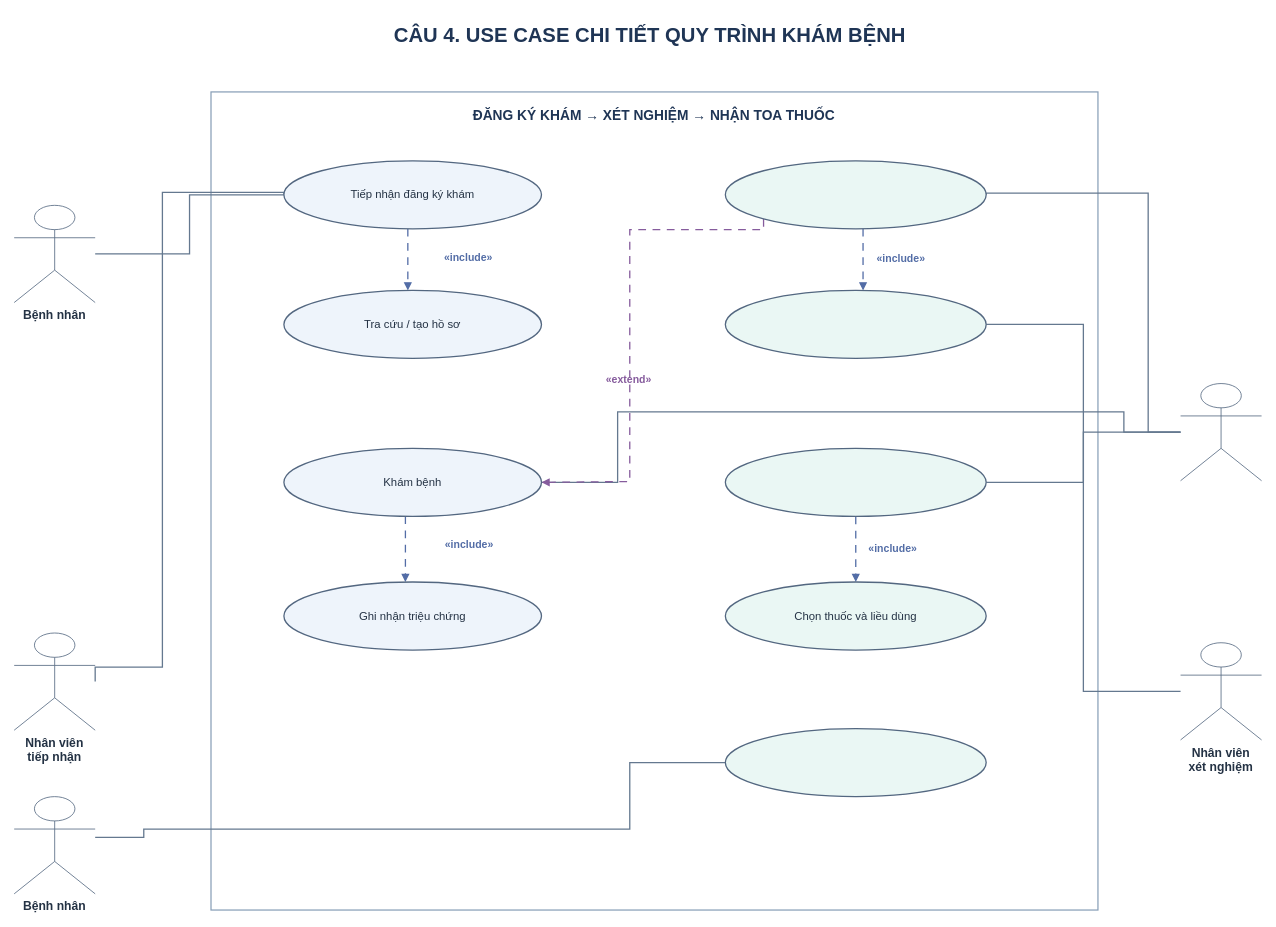
The diagram is 1276 pixels wide and 927 high, and some of its shapes have lost their labels. Each missing label, with the centre of its shape:
"Bác sĩ" goes at pixel 1221 432.
"Chỉ định xét nghiệm" goes at pixel 855 194.
"Ghi nhận kết quả xét nghiệm" goes at pixel 855 324.
"Giao toa / hướng dẫn sử dụng" goes at pixel 855 762.
"Lập toa thuốc" goes at pixel 855 482.
